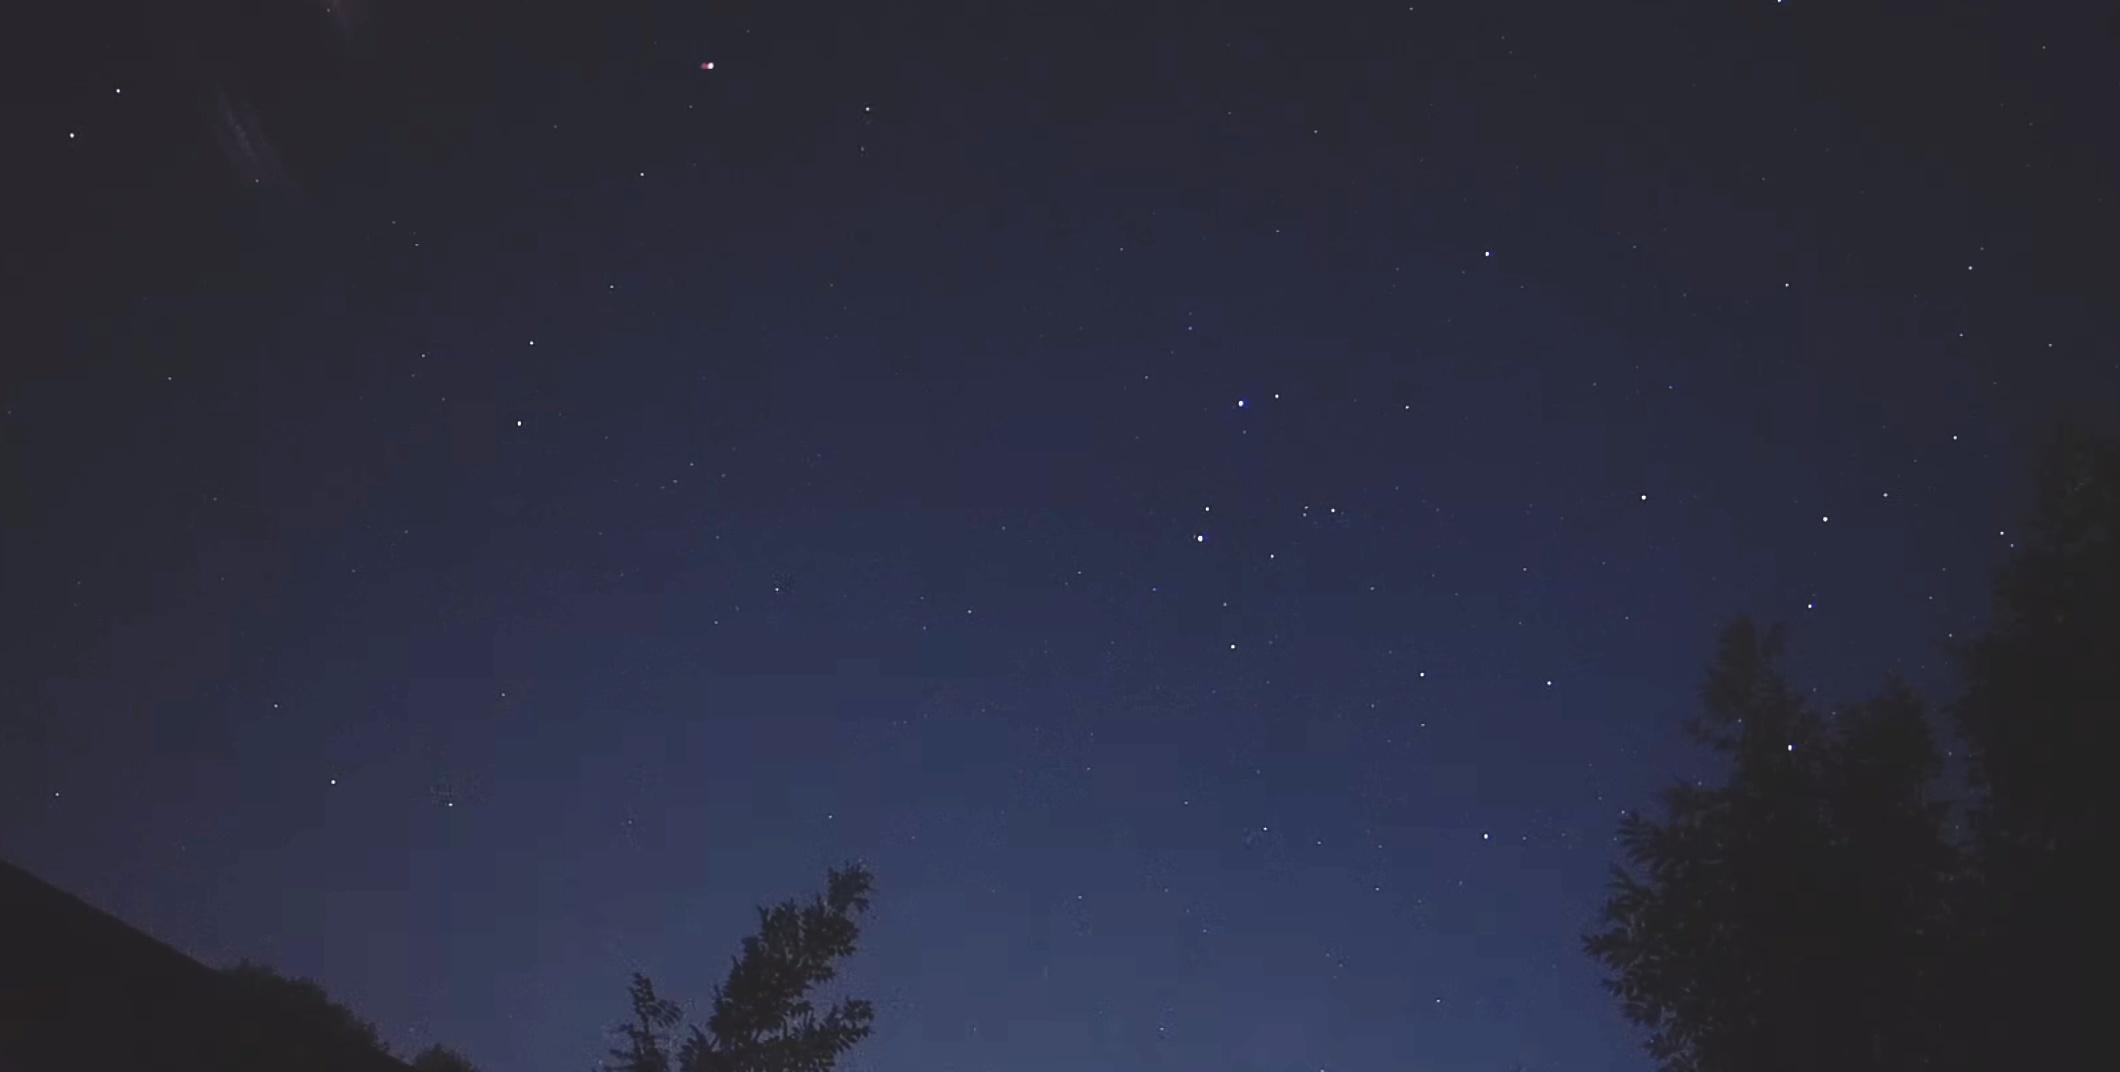Plane: (675, 51, 741, 77)
